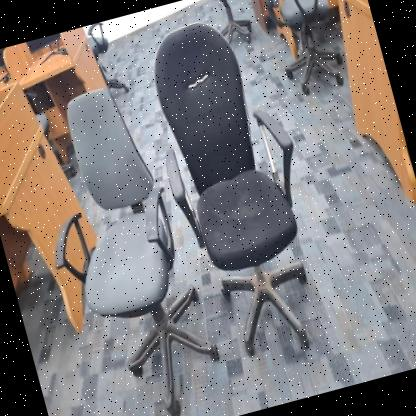chair: (127, 0, 349, 375), (11, 71, 233, 416)
